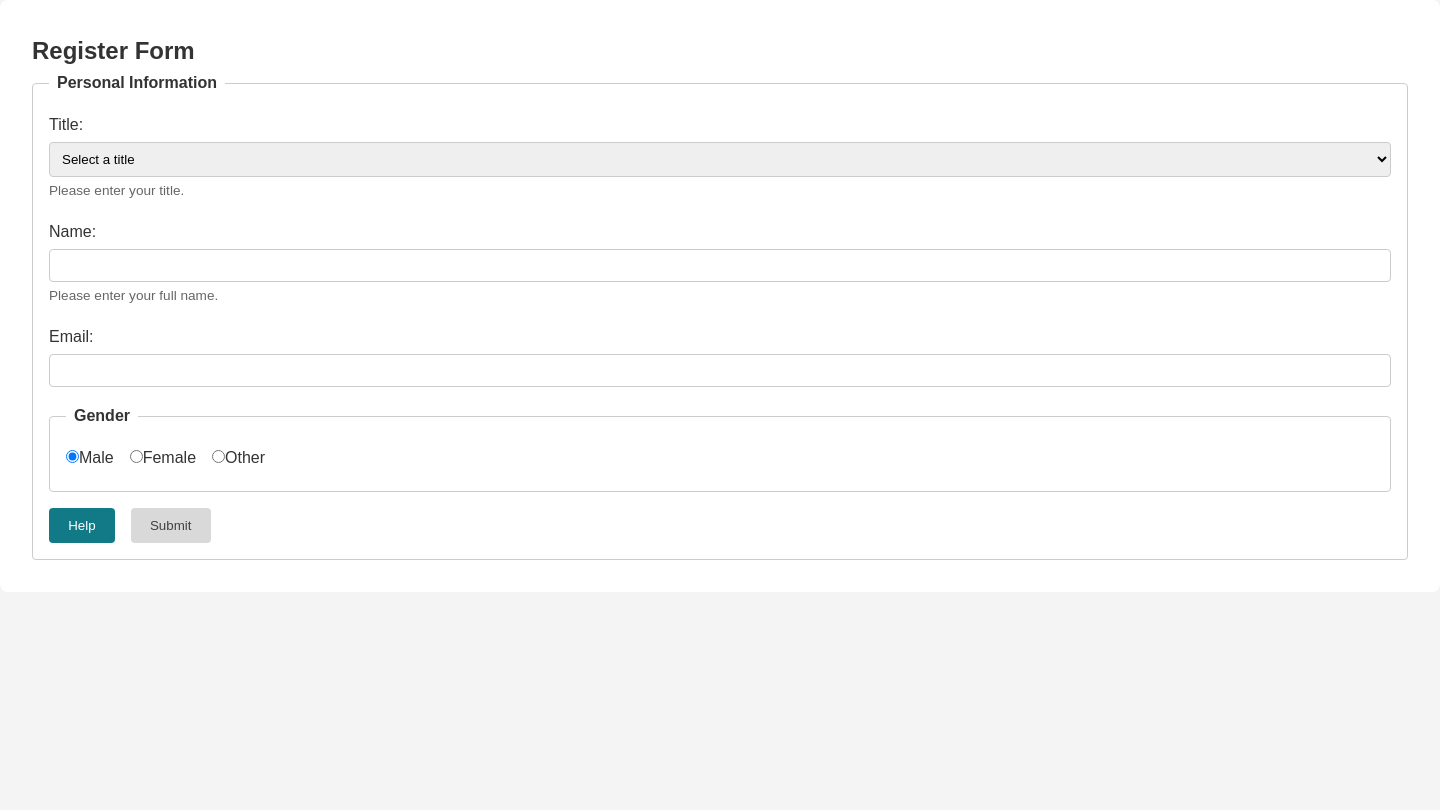
it: Form Component › should show error messages when fields are invalid
This screenshot has width=1440, height=810.
Click the button "Submit": coordinates (171, 525) [131,508,211,542]
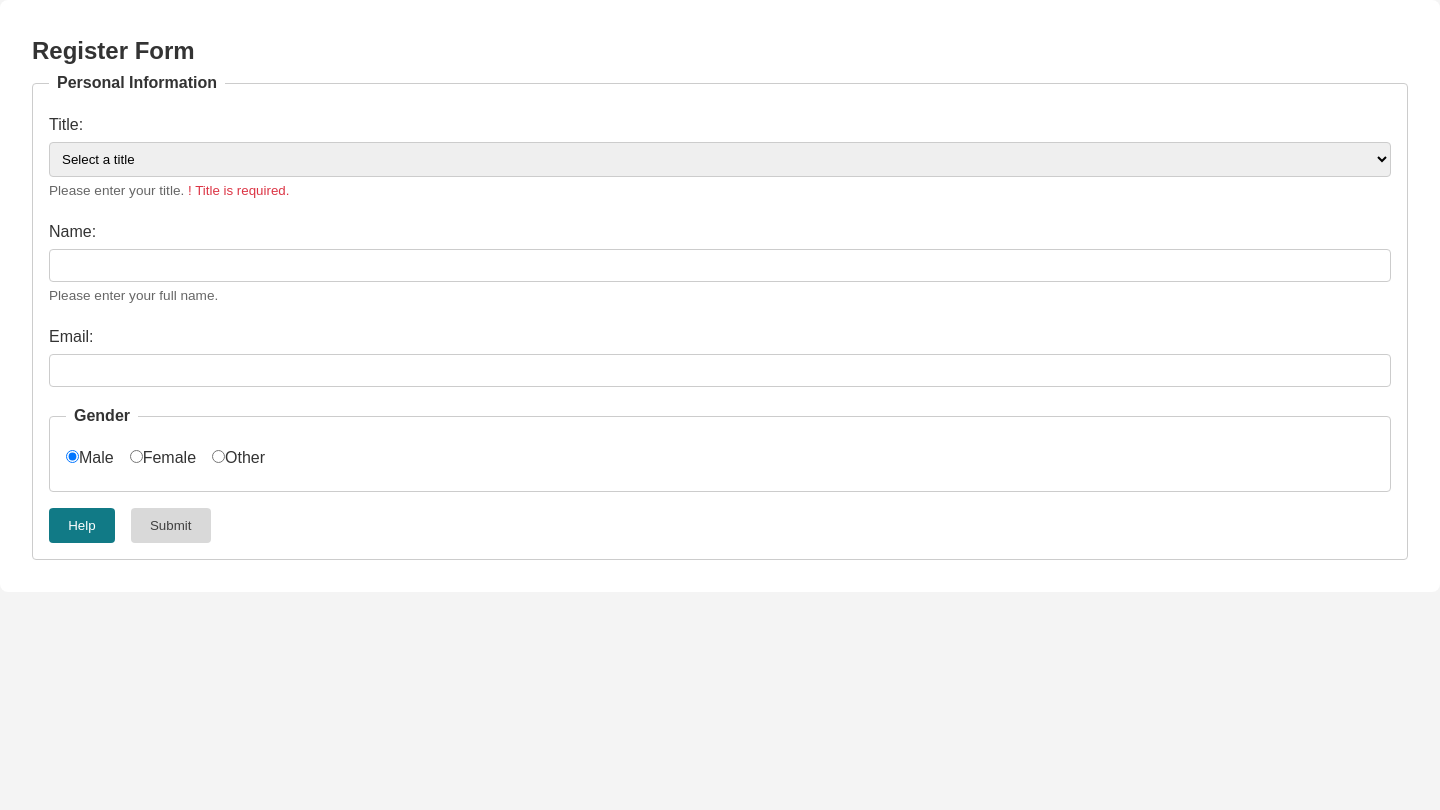
Check: the message reads "! Title is required.", box [184,183,290,198]
